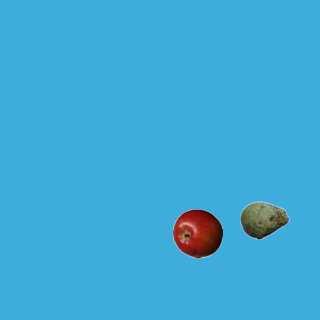Apple Braeburn: (172, 208, 222, 258)
Pear Stone: (239, 195, 289, 245)
